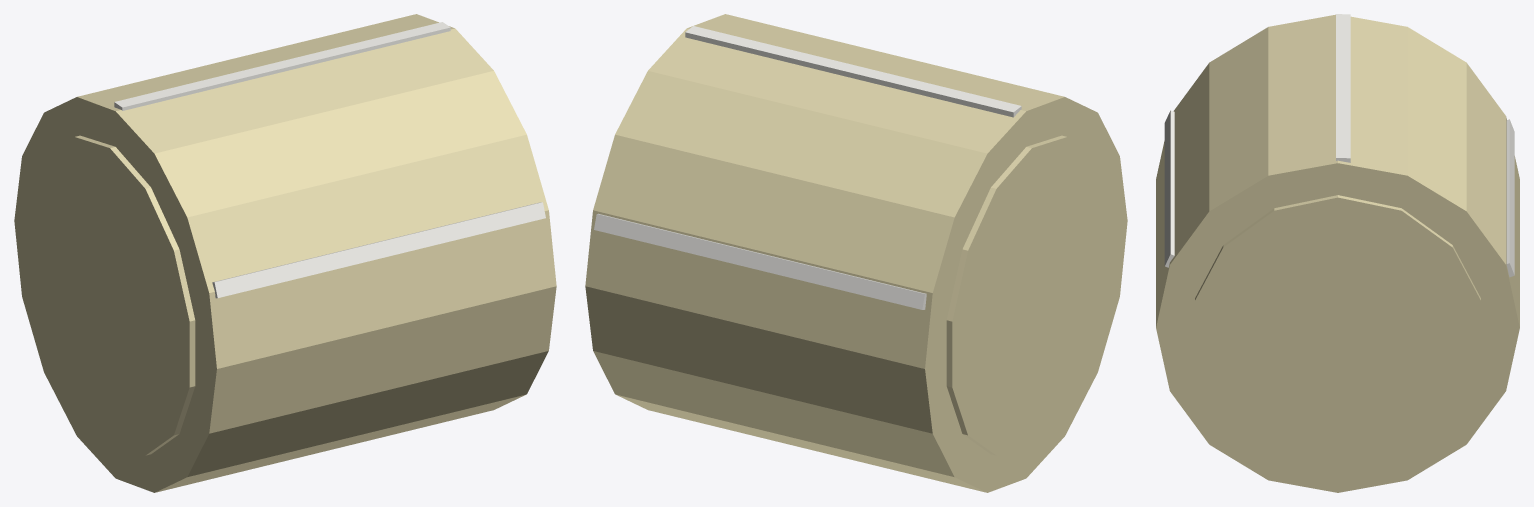
The model's file is hot-air-balloon-festival-round-hay-bale-bcc3dc85__38492.glb.
3 renders of one model, left to right at view 1: azimuth 30°, elevation 25°; view 2: azimuth 150°, elevation 25°; view 3: azimuth 270°, elevation 25°, orthographic. The views are drawn at different scales.
Visible parts, largest first — view 1: round-hay-bale-straw, round-hay-bale-canvasB; view 2: round-hay-bale-straw, round-hay-bale-canvasB; view 3: round-hay-bale-straw, round-hay-bale-canvasB.
Boxes of the visible parts, left/top/right/bottom form: round-hay-bale-straw: left=14, top=14, right=556, bottom=492; round-hay-bale-canvasB: left=114, top=22, right=545, bottom=298; round-hay-bale-straw: left=585, top=14, right=1127, bottom=492; round-hay-bale-canvasB: left=594, top=26, right=1021, bottom=309; round-hay-bale-straw: left=1156, top=14, right=1519, bottom=492; round-hay-bale-canvasB: left=1164, top=14, right=1514, bottom=277.
Bounding box in the file's own units: 1.24 × 1.25 × 1.24.
